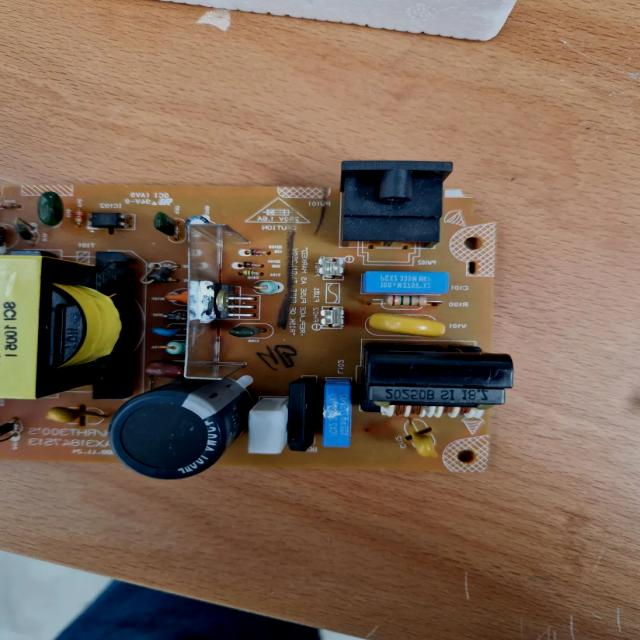C: (109, 378, 253, 479)
D: (366, 296, 444, 306), (74, 210, 84, 228), (0, 201, 22, 209), (246, 250, 270, 256), (238, 262, 262, 267), (240, 271, 259, 276)
E: (369, 313, 446, 337), (406, 423, 439, 458), (46, 406, 102, 422)
